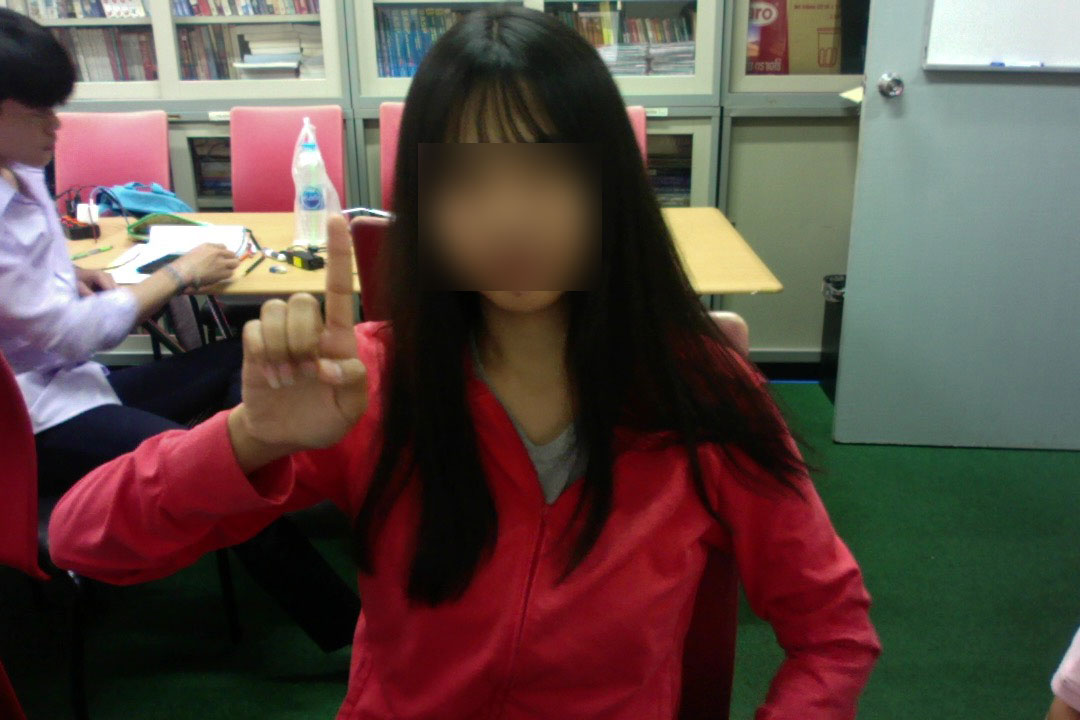dor: (224, 200, 371, 463)
